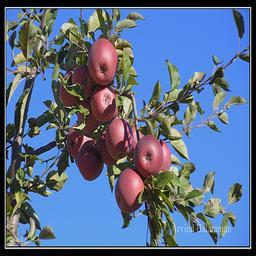apple: (114, 168, 145, 213), (88, 38, 118, 84), (134, 135, 164, 175), (105, 118, 134, 158), (66, 122, 95, 158), (77, 141, 103, 180), (90, 86, 118, 122), (59, 69, 78, 105), (72, 63, 91, 98)
